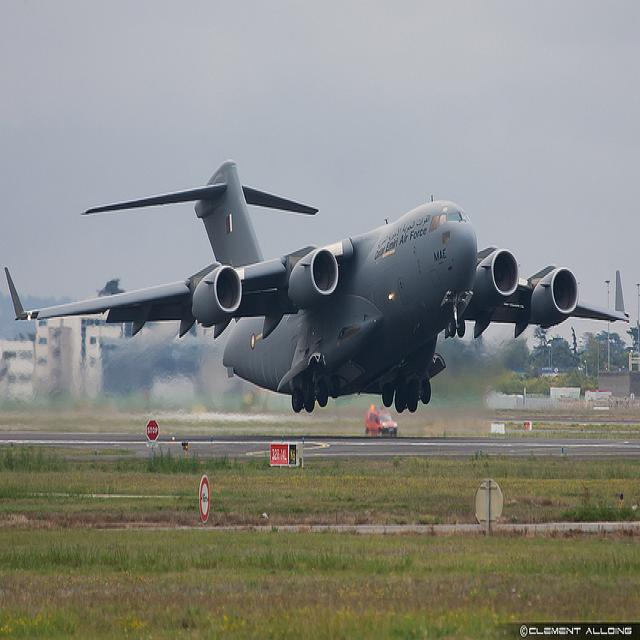airplane: (4, 156, 634, 417)
